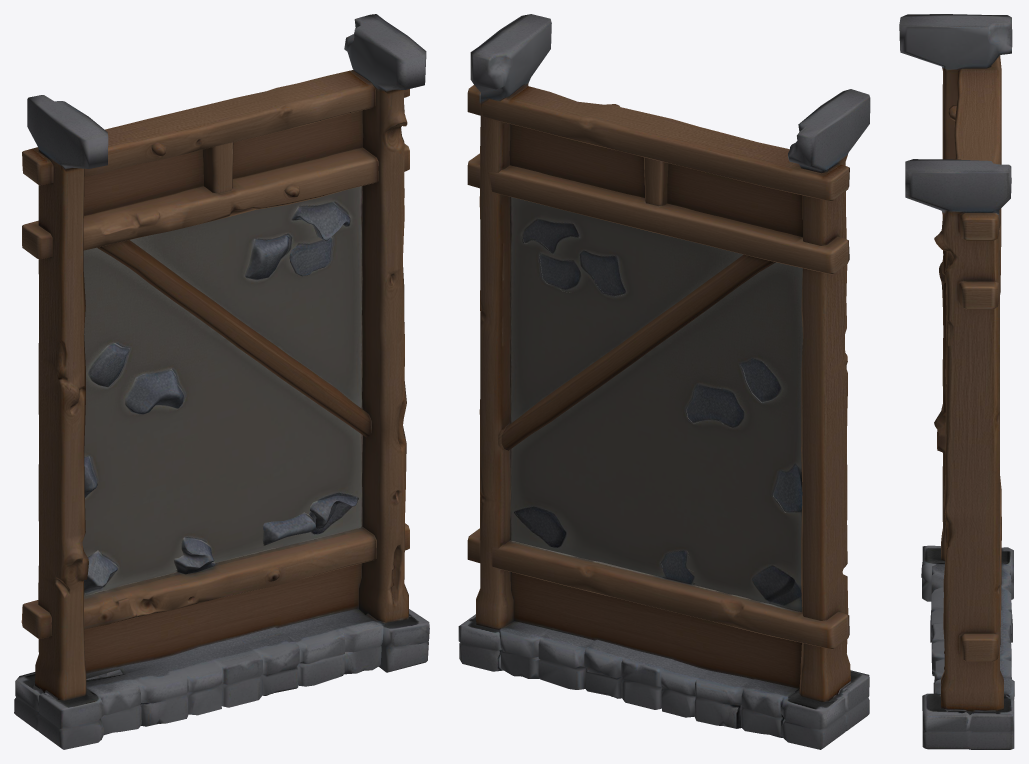
The model's file is muro_dimora.glb.
3 views of the same model, side by side, from view 1: azimuth 30°, elevation 25°; view 2: azimuth 150°, elevation 25°; view 3: azimuth 270°, elevation 25° (orthographic). The views are drawn at different scales.
Parts seen in each view (by area): view 1: muro_dimora; view 2: muro_dimora; view 3: muro_dimora.
Boxes of the visible parts, x1=… form: muro_dimora: x1=14, y1=14, x2=429, y2=749; muro_dimora: x1=458, y1=14, x2=870, y2=749; muro_dimora: x1=899, y1=14, x2=1014, y2=749.
Size of the model in its own units: 0.6304 by 0.9995 by 0.1821.
Materials: 1 (1 with a texture image).
